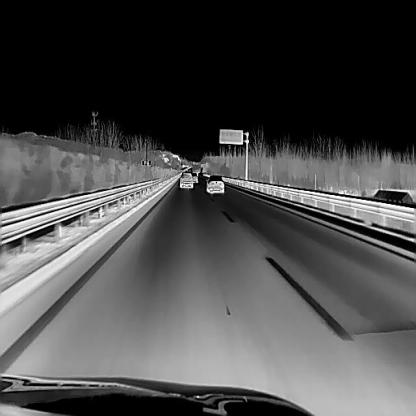car: (206, 174, 224, 192), (179, 171, 192, 188), (190, 171, 198, 182)
